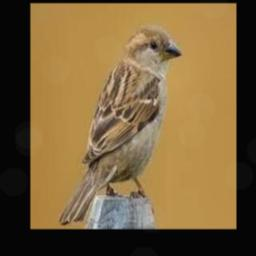Sparrow: (57, 25, 182, 223)
